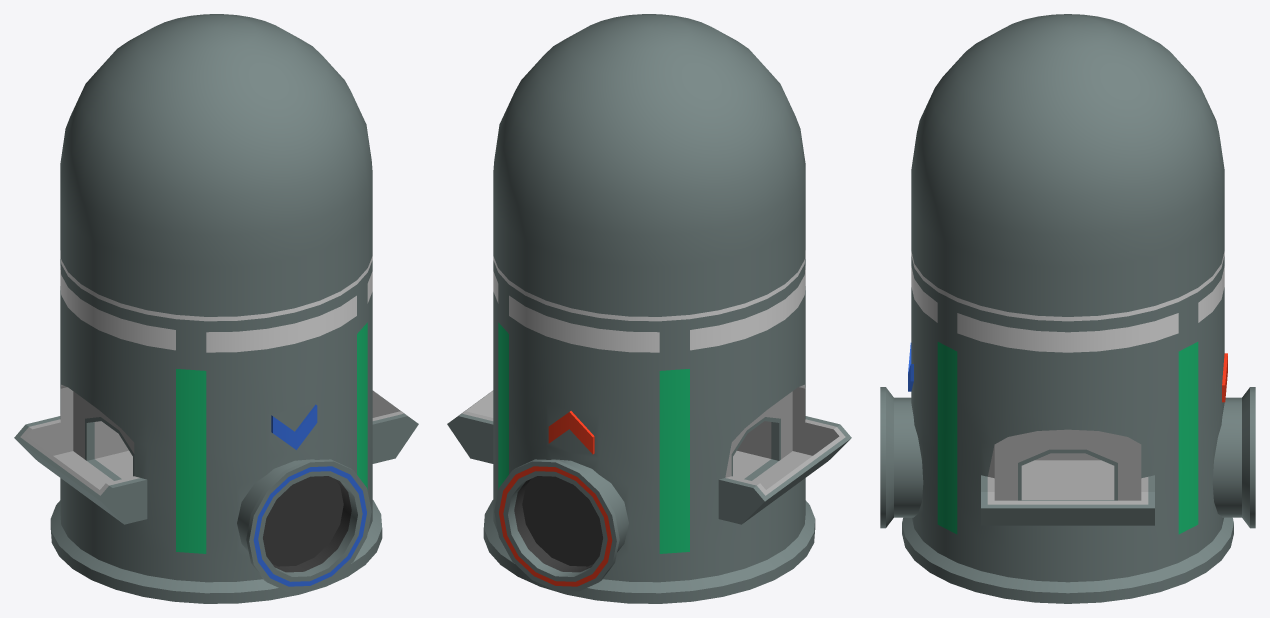
Rendered from Silo.fbx.
3 renders of one model, left to right at view 1: azimuth 30°, elevation 25°; view 2: azimuth 150°, elevation 25°; view 3: azimuth 270°, elevation 25°, orthographic.
Visible parts, largest first — view 1: Silo; view 2: Silo; view 3: Silo.
Boxes of the visible parts, x1,y1,x2,y2 form: Silo: (14,14,418,603); Silo: (447,14,851,603); Silo: (880,14,1255,603).
Bounding box in the file's own units: 97.72 × 149 × 100.
